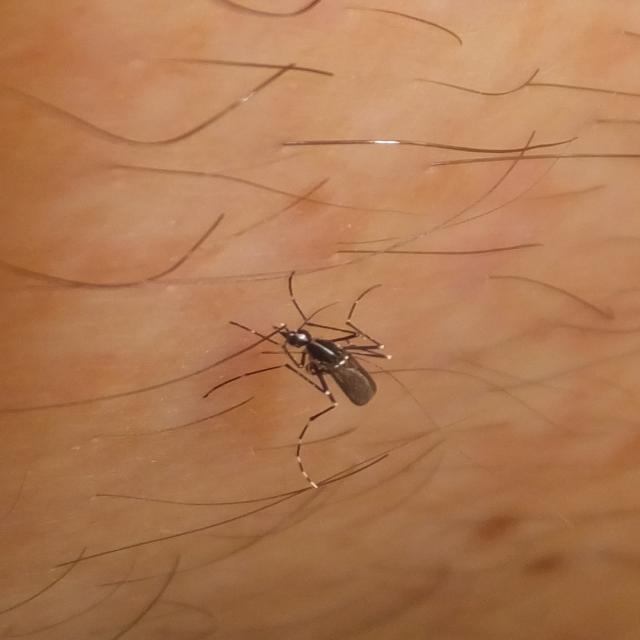albopictus: (163, 256, 399, 512)
